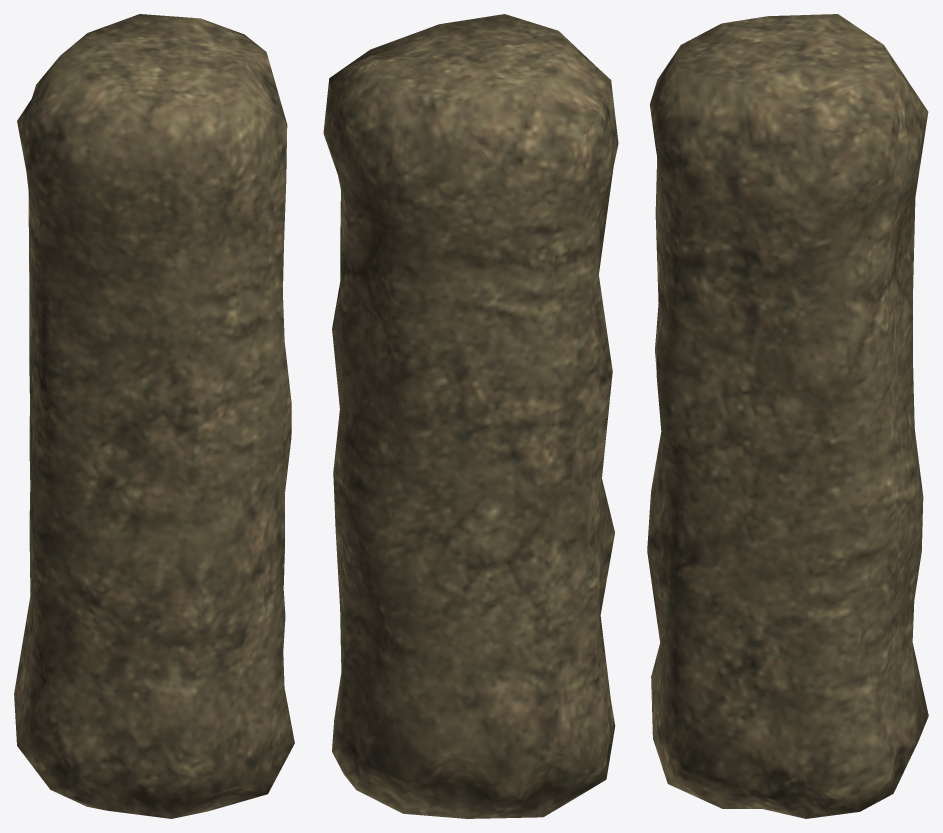
File: CaveWalls1_A.obj
3 renders of one model, left to right at view 1: azimuth 30°, elevation 25°; view 2: azimuth 150°, elevation 25°; view 3: azimuth 270°, elevation 25°, orthographic.
Visible parts, largest first — view 1: CaveWalls1A; view 2: CaveWalls1A; view 3: CaveWalls1A.
Part boxes in pixels (bbox=[...]): CaveWalls1A: bbox=[14, 14, 294, 818]; CaveWalls1A: bbox=[323, 14, 618, 818]; CaveWalls1A: bbox=[647, 14, 928, 818].
Bounding box in the file's own units: 11.89 × 33.03 × 11.47.
1 material, 1 textured.
